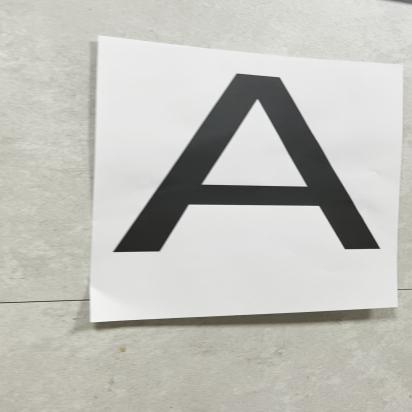seat: (125, 66, 401, 282)
